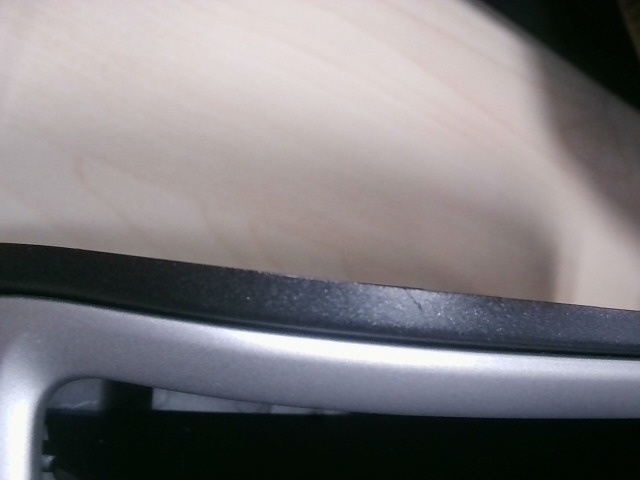NG: (394, 282, 429, 318)
